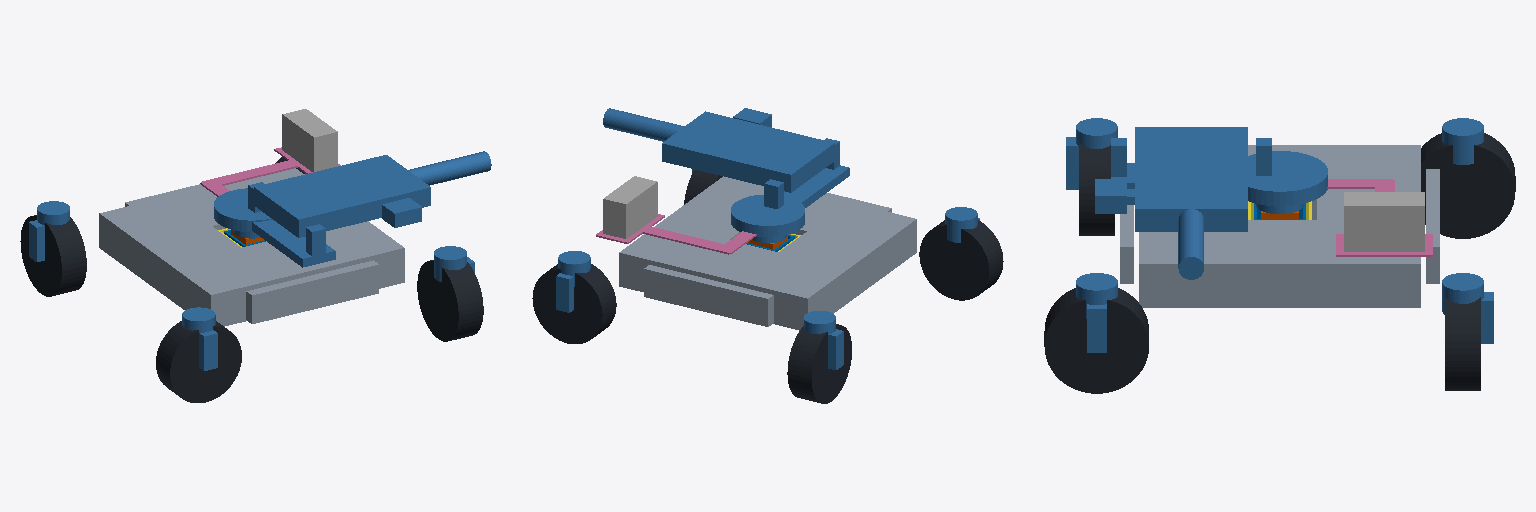
The robot description file, URDF, robot "tunnel_sentinel":
<?xml version='1.0' encoding='utf-8'?>
<robot name="tunnel_sentinel">
  <link name="base_link">
    <inertial>
      <origin xyz="0 0 0.00586978866055" rpy="0 0 0" />
      <mass value="38.1035776062" />
      <inertia ixx="1.02391846654" iyy="1.02391846655" izz="1.95088962633" ixy="0" ixz="0" iyz="0" />
    </inertial>
    <visual name="base_link_visual">
      <geometry>
        <mesh filename="meshes/chassis.stl" />
      </geometry>
      <material name="chassis_material">
        <color rgba="0.60 0.65 0.70 1" />
      </material>
    </visual>
    <collision name="base_link_collision">
      <geometry>
        <mesh filename="meshes/chassis.stl" />
      </geometry>
    </collision>
  </link>
  <link name="gimbal_yaw_link">
    <inertial>
      <origin xyz="-0.00527983192955 0.037796342411 0.0456967479311" rpy="0 0 0" />
      <mass value="11.4819142525" />
      <inertia ixx="0.102749561255" iyy="0.169291860926" izz="0.256619770567" ixy="-0.010778472544" ixz="0.00117021289422" iyz="0.00142237073929" />
    </inertial>
    <visual name="gimbal_yaw_link_visual">
      <geometry>
        <mesh filename="meshes/gimbal_yaw.stl" />
      </geometry>
      <material name="gimbal_yaw_material">
        <color rgba="0.25 0.48 0.68 1" />
      </material>
    </visual>
    <collision name="gimbal_yaw_link_collision">
      <geometry>
        <mesh filename="meshes/gimbal_yaw.stl" />
      </geometry>
    </collision>
  </link>
  <link name="gimbal_pitch_link">
    <inertial>
      <origin xyz="0.133070260132 -0.0655277685404 0" rpy="0 0 0" />
      <mass value="1.82471587885" />
      <inertia ixx="0.00405849922592" iyy="0.0131994867003" izz="0.0158053385647" ixy="0.00308032882862" ixz="0" iyz="0" />
    </inertial>
    <visual name="gimbal_pitch_link_visual">
      <geometry>
        <mesh filename="meshes/gimbal_pitch.stl" />
      </geometry>
      <material name="gimbal_pitch_material">
        <color rgba="0.25 0.48 0.68 1" />
      </material>
    </visual>
    <collision name="gimbal_pitch_link_collision">
      <geometry>
        <mesh filename="meshes/gimbal_pitch.stl" />
      </geometry>
    </collision>
  </link>
  <link name="front_right_steering_link">
    <inertial>
      <origin xyz="0.00866419643516 0 -0.0156793481547" rpy="0 0 0" />
      <mass value="0.217830303563" />
      <inertia ixx="0.000234818798716" iyy="0.000264436848785" izz="0.000367075647958" ixy="0" ixz="4.9125047133e-05" iyz="0" />
    </inertial>
    <visual name="front_right_steering_link_visual">
      <geometry>
        <mesh filename="meshes/steering.stl" />
      </geometry>
      <material name="steering_material">
        <color rgba="0.25 0.48 0.68 1" />
      </material>
    </visual>
    <collision name="front_right_steering_link_collision">
      <geometry>
        <mesh filename="meshes/steering.stl" />
      </geometry>
    </collision>
  </link>
  <link name="front_right_wheel_link">
    <inertial>
      <origin xyz="-0.03 -4.44383418952e-12 0" rpy="0 0 0" />
      <mass value="0.340470103833" />
      <inertia ixx="0.000307487042668" iyy="0.000255884532628" izz="0.00025588457234" ixy="0" ixz="0" iyz="0" />
    </inertial>
    <visual name="front_right_wheel_link_visual">
      <geometry>
        <mesh filename="meshes/wheel.stl" />
      </geometry>
      <material name="wheel_material">
        <color rgba="0.18 0.20 0.23 1" />
      </material>
    </visual>
    <collision name="front_right_wheel_link_collision">
      <geometry>
        <mesh filename="meshes/wheel.stl" />
      </geometry>
    </collision>
  </link>
  <link name="rear_right_steering_link">
    <inertial>
      <origin xyz="0.00866419643516 0 -0.0156793481547" rpy="0 0 0" />
      <mass value="0.217830303563" />
      <inertia ixx="0.000234818798716" iyy="0.000264436848785" izz="0.000367075647958" ixy="0" ixz="4.9125047133e-05" iyz="0" />
    </inertial>
    <visual name="rear_right_steering_link_visual">
      <geometry>
        <mesh filename="meshes/steering.stl" />
      </geometry>
      <material name="steering_material">
        <color rgba="0.25 0.48 0.68 1" />
      </material>
    </visual>
    <collision name="rear_right_steering_link_collision">
      <geometry>
        <mesh filename="meshes/steering.stl" />
      </geometry>
    </collision>
  </link>
  <link name="rear_right_wheel_link">
    <inertial>
      <origin xyz="-0.03 -4.44383418952e-12 0" rpy="0 0 0" />
      <mass value="0.340470103833" />
      <inertia ixx="0.000307487042668" iyy="0.000255884532628" izz="0.00025588457234" ixy="0" ixz="0" iyz="0" />
    </inertial>
    <visual name="rear_right_wheel_link_visual">
      <geometry>
        <mesh filename="meshes/wheel.stl" />
      </geometry>
      <material name="wheel_material">
        <color rgba="0.18 0.20 0.23 1" />
      </material>
    </visual>
    <collision name="rear_right_wheel_link_collision">
      <geometry>
        <mesh filename="meshes/wheel.stl" />
      </geometry>
    </collision>
  </link>
  <link name="rear_left_steering_link">
    <inertial>
      <origin xyz="0.00866419643516 0 -0.0156793481547" rpy="0 0 0" />
      <mass value="0.217830303563" />
      <inertia ixx="0.000234818798716" iyy="0.000264436848785" izz="0.000367075647958" ixy="0" ixz="4.9125047133e-05" iyz="0" />
    </inertial>
    <visual name="rear_left_steering_link_visual">
      <geometry>
        <mesh filename="meshes/steering.stl" />
      </geometry>
      <material name="steering_material">
        <color rgba="0.25 0.48 0.68 1" />
      </material>
    </visual>
    <collision name="rear_left_steering_link_collision">
      <geometry>
        <mesh filename="meshes/steering.stl" />
      </geometry>
    </collision>
  </link>
  <link name="rear_left_wheel_link">
    <inertial>
      <origin xyz="-0.03 -4.44383418952e-12 0" rpy="0 0 0" />
      <mass value="0.340470103833" />
      <inertia ixx="0.000307487042668" iyy="0.000255884532628" izz="0.00025588457234" ixy="0" ixz="0" iyz="0" />
    </inertial>
    <visual name="rear_left_wheel_link_visual">
      <geometry>
        <mesh filename="meshes/wheel.stl" />
      </geometry>
      <material name="wheel_material">
        <color rgba="0.18 0.20 0.23 1" />
      </material>
    </visual>
    <collision name="rear_left_wheel_link_collision">
      <geometry>
        <mesh filename="meshes/wheel.stl" />
      </geometry>
    </collision>
  </link>
  <link name="front_left_steering_link">
    <inertial>
      <origin xyz="0.00866419643516 0 -0.0156793481547" rpy="0 0 0" />
      <mass value="0.217830303563" />
      <inertia ixx="0.000234818798716" iyy="0.000264436848785" izz="0.000367075647958" ixy="0" ixz="4.9125047133e-05" iyz="0" />
    </inertial>
    <visual name="front_left_steering_link_visual">
      <geometry>
        <mesh filename="meshes/steering.stl" />
      </geometry>
      <material name="steering_material">
        <color rgba="0.25 0.48 0.68 1" />
      </material>
    </visual>
    <collision name="front_left_steering_link_collision">
      <geometry>
        <mesh filename="meshes/steering.stl" />
      </geometry>
    </collision>
  </link>
  <link name="front_left_wheel_link">
    <inertial>
      <origin xyz="-0.03 -4.44383418952e-12 0" rpy="0 0 0" />
      <mass value="0.340470103833" />
      <inertia ixx="0.000307487042668" iyy="0.000255884532628" izz="0.00025588457234" ixy="0" ixz="0" iyz="0" />
    </inertial>
    <visual name="front_left_wheel_link_visual">
      <geometry>
        <mesh filename="meshes/wheel.stl" />
      </geometry>
      <material name="wheel_material">
        <color rgba="0.18 0.20 0.23 1" />
      </material>
    </visual>
    <collision name="front_left_wheel_link_collision">
      <geometry>
        <mesh filename="meshes/wheel.stl" />
      </geometry>
    </collision>
  </link>
  <joint name="gimbal_yaw_joint" type="continuous">
    <parent link="lift_carriage_link" />
    <child link="gimbal_yaw_link" />
    <origin xyz="0 0 0.06525" rpy="0 0 0" />
    <axis xyz="0 0 1" />
  </joint>
  <joint name="gimbal_pitch_joint" type="continuous">
    <parent link="gimbal_yaw_link" />
    <child link="gimbal_pitch_link" />
    <origin xyz="0 -0.11 0.045" rpy="0 0 0" />
    <axis xyz="0 -1 0" />
  </joint>
  <joint name="front_right_steering_joint" type="continuous">
    <parent link="base_link" />
    <child link="front_right_steering_link" />
    <origin xyz="0.2273 -0.2273 0.015" rpy="0 0 0" />
    <axis xyz="0 0 1" />
  </joint>
  <joint name="front_right_wheel_joint" type="continuous">
    <parent link="front_right_steering_link" />
    <child link="front_right_wheel_link" />
    <origin xyz="0.03 0 -0.063" rpy="0 0 0" />
    <axis xyz="1 0 0" />
  </joint>
  <joint name="rear_right_steering_joint" type="continuous">
    <parent link="base_link" />
    <child link="rear_right_steering_link" />
    <origin xyz="-0.2273 -0.2273 0.015" rpy="0 0 -1.57079632679" />
    <axis xyz="0 0 1" />
  </joint>
  <joint name="rear_right_wheel_joint" type="continuous">
    <parent link="rear_right_steering_link" />
    <child link="rear_right_wheel_link" />
    <origin xyz="0.03 0 -0.063" rpy="0 0 0" />
    <axis xyz="1 0 0" />
  </joint>
  <joint name="rear_left_steering_joint" type="continuous">
    <parent link="base_link" />
    <child link="rear_left_steering_link" />
    <origin xyz="-0.2273 0.2273 0.015" rpy="0 0 3.14159265359" />
    <axis xyz="0 0 1" />
  </joint>
  <joint name="rear_left_wheel_joint" type="continuous">
    <parent link="rear_left_steering_link" />
    <child link="rear_left_wheel_link" />
    <origin xyz="0.03 0 -0.063" rpy="0 0 0" />
    <axis xyz="1 0 0" />
  </joint>
  <joint name="front_left_steering_joint" type="continuous">
    <parent link="base_link" />
    <child link="front_left_steering_link" />
    <origin xyz="0.2273 0.2273 0.015" rpy="0 0 1.57079632679" />
    <axis xyz="0 0 1" />
  </joint>
  <joint name="front_left_wheel_joint" type="continuous">
    <parent link="front_left_steering_link" />
    <child link="front_left_wheel_link" />
    <origin xyz="0.03 0 -0.063" rpy="0 0 0" />
    <axis xyz="1 0 0" />
  </joint>
  <link name="lift_base_link">
    <inertial>
      <origin xyz="0 0 -0.02" />
      <mass value="0.5" />
      <inertia ixx="0.0006833333333333334" iyy="0.0006833333333333334" izz="0.0005333333333333334" ixy="0" ixz="0" iyz="0" />
    </inertial>
    <visual name="lift_base_visual">
      <geometry>
        <mesh filename="meshes/lift_base.stl" />
      </geometry>
    </visual>
    <collision name="lift_base_collision">
      <geometry>
        <mesh filename="meshes/lift_base.stl" />
      </geometry>
    </collision>
  </link>
  <link name="lift_stage_link">
    <inertial>
      <origin xyz="0 0 -0.02" />
      <mass value="0.35" />
      <inertia ixx="0.0004111333333333333" iyy="0.0004111333333333333" izz="0.00023893333333333333" ixy="0" ixz="0" iyz="0" />
    </inertial>
    <visual name="lift_stage_visual">
      <geometry>
        <mesh filename="meshes/lift_stage.stl" />
      </geometry>
    </visual>
    <collision name="lift_stage_collision">
      <geometry>
        <mesh filename="meshes/lift_stage.stl" />
      </geometry>
    </collision>
  </link>
  <link name="lift_carriage_link">
    <inertial>
      <origin xyz="0 0 -0.02" />
      <mass value="0.45" />
      <inertia ixx="0.0004614000000000001" iyy="0.0004614000000000001" izz="0.0001728" ixy="0" ixz="0" iyz="0" />
    </inertial>
    <visual name="lift_carriage_visual">
      <geometry>
        <mesh filename="meshes/lift_carriage.stl" />
      </geometry>
    </visual>
    <collision name="lift_carriage_collision">
      <geometry>
        <mesh filename="meshes/lift_carriage.stl" />
      </geometry>
    </collision>
  </link>
  <joint name="lift_base_joint" type="fixed">
    <parent link="base_link" />
    <child link="lift_base_link" />
    <origin xyz="0 0 0" />
  </joint>
  <joint name="lift_joint" type="prismatic">
    <parent link="base_link" />
    <child link="lift_carriage_link" />
    <origin xyz="0 0 0" />
    <axis xyz="0 0 1" />
    <limit lower="0" upper="0.16075" effort="300" velocity="0.06" />
    <dynamics damping="2" friction="0" />
  </joint>
  <joint name="lift_stage_joint" type="prismatic">
    <parent link="base_link" />
    <child link="lift_stage_link" />
    <origin xyz="0 0 0" />
    <axis xyz="0 0 1" />
    <limit lower="0" upper="0.080375" effort="300" velocity="0.03" />
    <dynamics damping="2" friction="0" />
  </joint>
  <link name="odin_mount_link">
    <inertial>
      <origin xyz="0.09 0.1 -0.0075" />
      <mass value="0.15" />
      <inertia ixx="0.0005001125000000001" iyy="0.0007201124999999999" izz="0.00122" ixy="0" ixz="0" iyz="0" />
    </inertial>
    <visual name="odin_mount_visual">
      <geometry>
        <mesh filename="meshes/odin_mount.stl" />
      </geometry>
    </visual>
    <collision name="odin_mount_collision">
      <geometry>
        <mesh filename="meshes/odin_mount.stl" />
      </geometry>
    </collision>
  </link>
  <link name="odin_link">
    <inertial>
      <origin xyz="0 0 0" />
      <mass value="0.28" />
      <inertia ixx="0.0003230266666666667" iyy="0.00013283666666666667" izz="0.00027647666666666675" ixy="0" ixz="0" iyz="0" />
    </inertial>
    <visual name="odin_visual">
      <geometry>
        <mesh filename="meshes/odin1.stl" />
      </geometry>
    </visual>
    <collision name="odin_collision">
      <geometry>
        <mesh filename="meshes/odin1.stl" />
      </geometry>
    </collision>
  </link>
  <link name="odin_lidar_frame" />
  <joint name="odin_mount_joint" type="fixed">
    <parent link="gimbal_yaw_link" />
    <child link="odin_mount_link" />
    <origin xyz="0 0 0" rpy="0 0 0" />
  </joint>
  <joint name="odin_joint" type="fixed">
    <parent link="odin_mount_link" />
    <child link="odin_link" />
    <origin xyz="0.18 0.13 0.025" rpy="0.0 0.0 0.0" />
  </joint>
  <joint name="odin_lidar_joint" type="fixed">
    <parent link="odin_link" />
    <child link="odin_lidar_frame" />
    <origin xyz="0.024 0.0 0.0" rpy="0 0 0" />
  </joint>
</robot>

--- What the picture shows (computed from the rendered views, not written in the file) ---
Views: 3 orthographic renders of the robot side by side, from view 1: azimuth 30°, elevation 25°; view 2: azimuth 150°, elevation 25°; view 3: azimuth 270°, elevation 25°.
Robot: tunnel_sentinel — 17 links, 16 joints (10 continuous, 2 prismatic, 4 fixed); root link base_link; default pose: every joint at zero.
Links seen in each view (by area): view 1: base_link, gimbal_pitch_link, rear_right_wheel_link, front_right_wheel_link, gimbal_yaw_link, rear_left_wheel_link, odin_link, rear_right_steering_link, rear_left_steering_link, odin_mount_link, front_right_steering_link; view 2: base_link, gimbal_pitch_link, rear_right_wheel_link, gimbal_yaw_link, front_left_wheel_link, rear_left_wheel_link, odin_link, odin_mount_link, front_left_steering_link, rear_left_steering_link, rear_right_steering_link, front_right_wheel_link; view 3: base_link, gimbal_pitch_link, front_right_wheel_link, rear_left_wheel_link, gimbal_yaw_link, odin_link, front_left_wheel_link, rear_right_wheel_link, front_right_steering_link, front_left_steering_link, rear_right_steering_link, odin_mount_link (+1 smaller).
Link boxes in pixels (x1=…): base_link: x1=99, y1=168, x2=404, y2=326; gimbal_pitch_link: x1=254, y1=151, x2=491, y2=237; rear_right_wheel_link: x1=156, y1=321, x2=241, y2=402; front_right_wheel_link: x1=417, y1=260, x2=483, y2=341; gimbal_yaw_link: x1=214, y1=182, x2=335, y2=267; rear_left_wheel_link: x1=20, y1=215, x2=86, y2=296; odin_link: x1=282, y1=109, x2=337, y2=171; rear_right_steering_link: x1=182, y1=307, x2=217, y2=370; rear_left_steering_link: x1=29, y1=201, x2=69, y2=261; odin_mount_link: x1=200, y1=147, x2=340, y2=196; front_right_steering_link: x1=434, y1=246, x2=474, y2=281; base_link: x1=619, y1=176, x2=916, y2=330; gimbal_pitch_link: x1=603, y1=108, x2=834, y2=192; rear_right_wheel_link: x1=919, y1=220, x2=1003, y2=300; gimbal_yaw_link: x1=731, y1=138, x2=849, y2=243; front_left_wheel_link: x1=532, y1=264, x2=616, y2=343; rear_left_wheel_link: x1=787, y1=324, x2=851, y2=403; odin_link: x1=603, y1=176, x2=657, y2=238; odin_mount_link: x1=596, y1=214, x2=756, y2=254; front_left_steering_link: x1=556, y1=251, x2=590, y2=312; rear_left_steering_link: x1=804, y1=311, x2=843, y2=369; rear_right_steering_link: x1=945, y1=207, x2=979, y2=242; front_right_wheel_link: x1=684, y1=170, x2=722, y2=204; base_link: x1=1120, y1=145, x2=1439, y2=307; gimbal_pitch_link: x1=1095, y1=127, x2=1247, y2=279; front_right_wheel_link: x1=1044, y1=288, x2=1148, y2=393; rear_left_wheel_link: x1=1421, y1=133, x2=1515, y2=238; gimbal_yaw_link: x1=1111, y1=138, x2=1327, y2=213; odin_link: x1=1344, y1=192, x2=1424, y2=251; front_left_wheel_link: x1=1445, y1=297, x2=1480, y2=390; rear_right_wheel_link: x1=1079, y1=143, x2=1114, y2=235; front_right_steering_link: x1=1076, y1=273, x2=1117, y2=352; front_left_steering_link: x1=1442, y1=273, x2=1493, y2=343; rear_right_steering_link: x1=1066, y1=118, x2=1117, y2=189; odin_mount_link: x1=1327, y1=179, x2=1432, y2=256.
Bounding box of the posed robot: 0.6523 × 0.5846 × 0.2393 m (x, y, z).
16 mesh visuals loaded from 10 distinct referenced files (10 ASCII STL).
